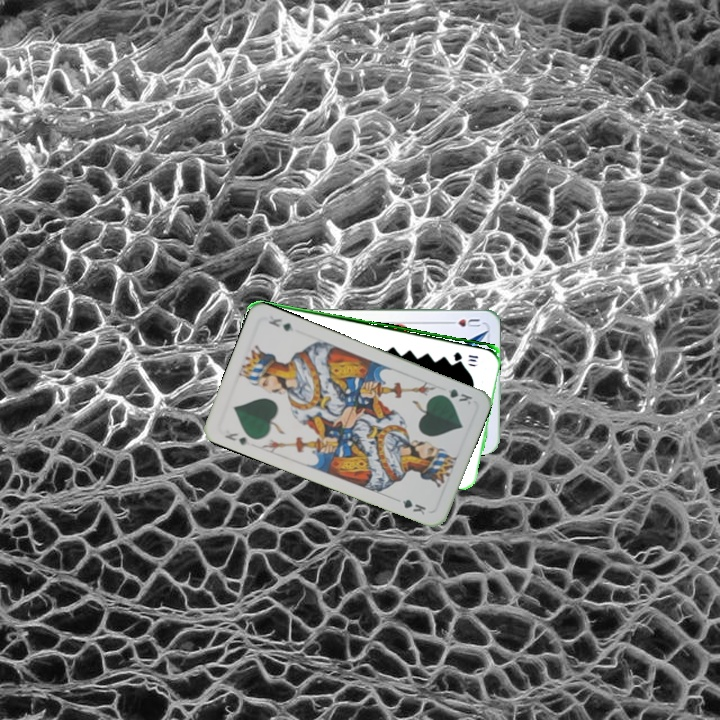G10: (449, 348, 481, 364)
GK: (435, 385, 475, 407), (221, 429, 249, 448)
HU: (444, 315, 483, 330)
